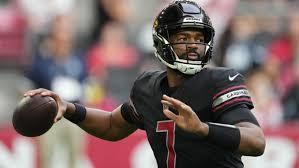americanFootball: (13, 94, 60, 137)
